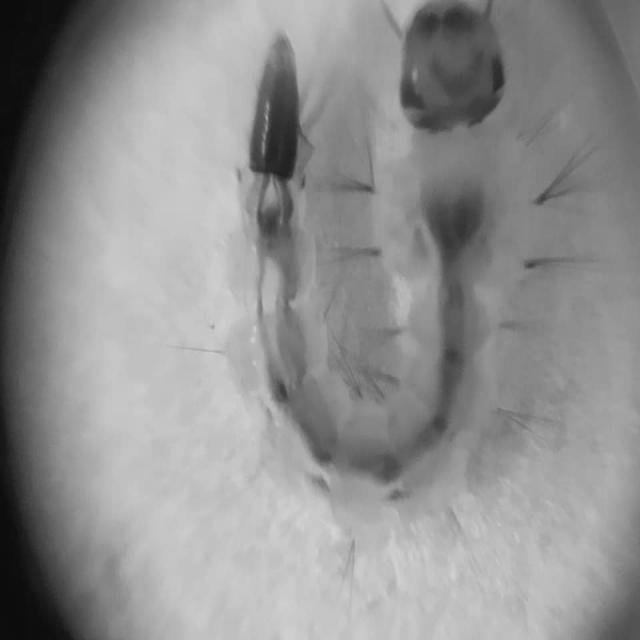larvas: (228, 3, 535, 532)
